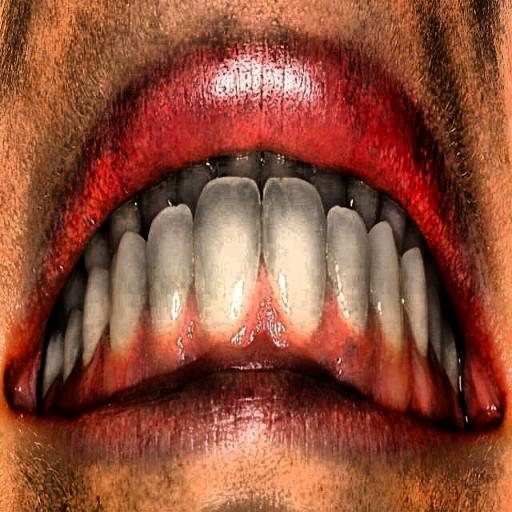Healthy: (60, 46, 442, 431)
